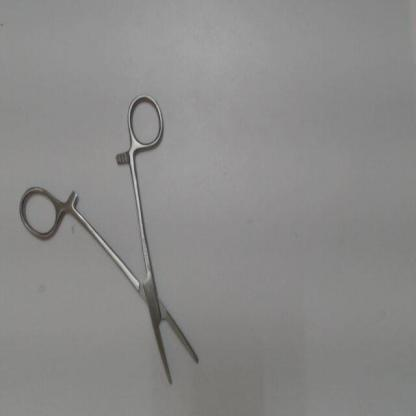Mayo Needle Holder: (14, 88, 211, 403)
